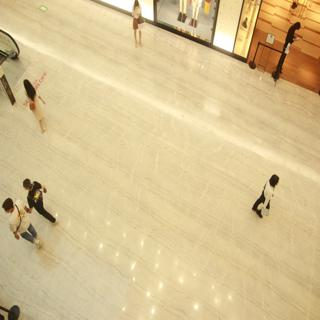person: (1, 194, 47, 263), (13, 74, 60, 136), (241, 162, 284, 229), (19, 171, 62, 229)
